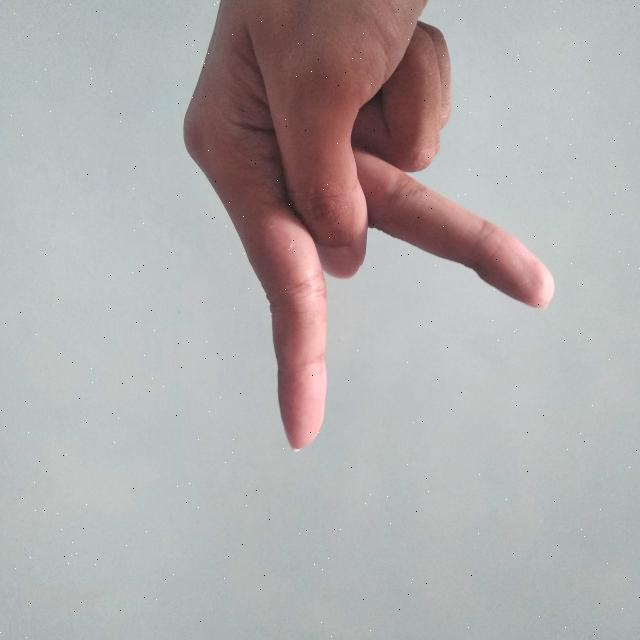P: (179, 0, 561, 466)
